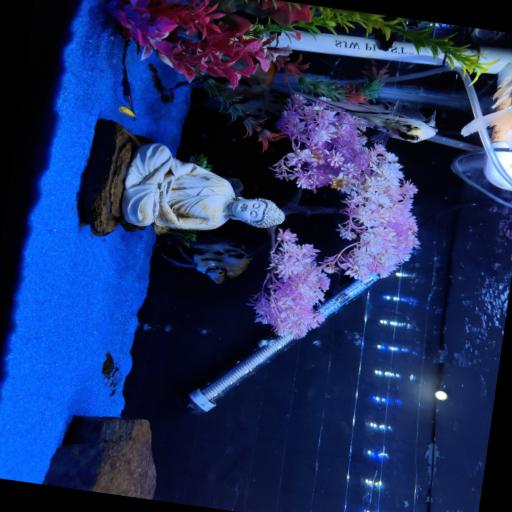Fish: (301, 94, 436, 141), (156, 241, 250, 283), (461, 74, 511, 148), (119, 40, 137, 119), (470, 28, 503, 43), (118, 105, 137, 116)
